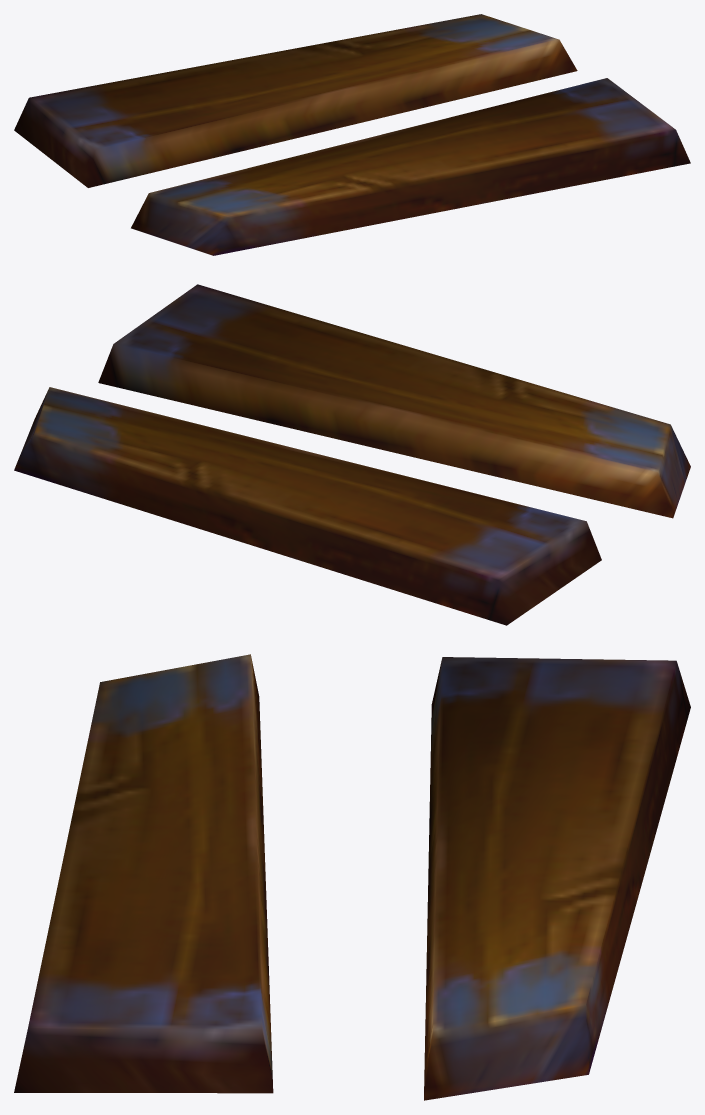
The model's file is MuBan02.FBX.
The picture shows the model from 3 angles, top to bottom: view 1: azimuth 30°, elevation 25°; view 2: azimuth 150°, elevation 25°; view 3: azimuth 270°, elevation 25°; orthographic projection. The views are drawn at different scales.
Parts seen in each view (by area): view 1: MuBan02; view 2: MuBan02; view 3: MuBan02.
Part boxes in pixels (bbox=[...]): MuBan02: bbox=[14, 14, 690, 255]; MuBan02: bbox=[14, 284, 690, 625]; MuBan02: bbox=[14, 654, 690, 1100].
Bounding box in the file's own units: 52.97 × 3.39 × 37.54.
